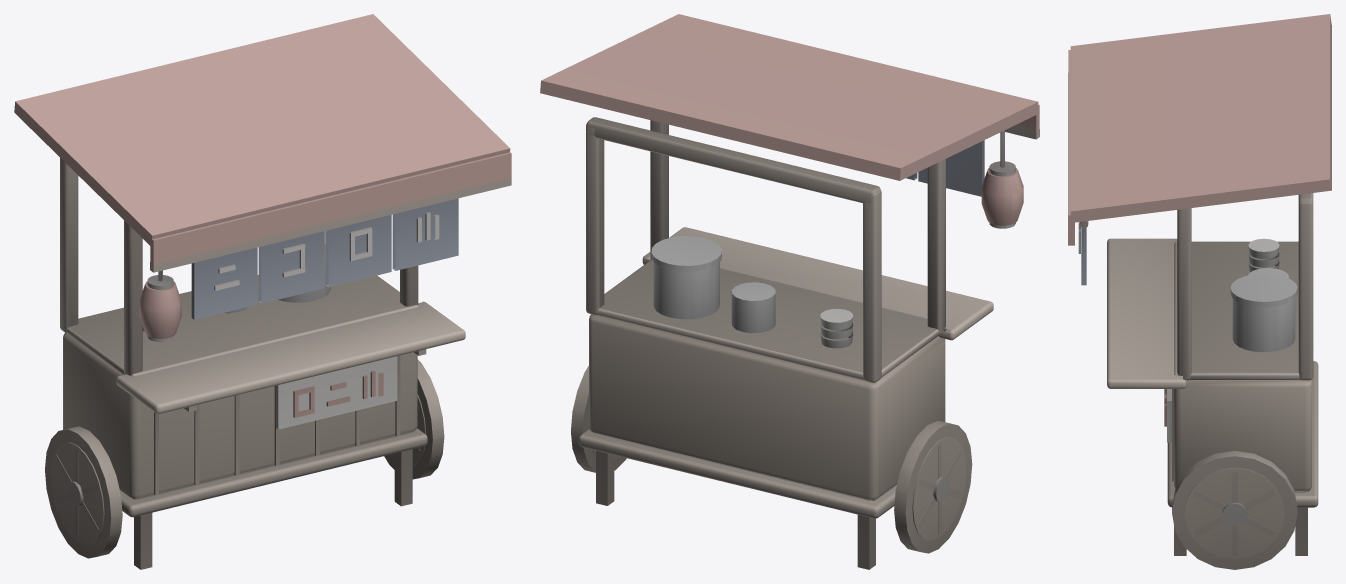
Rendered from ramen.glb.
3 views of the same model, side by side, from view 1: azimuth 30°, elevation 25°; view 2: azimuth 150°, elevation 25°; view 3: azimuth 270°, elevation 25° (orthographic). The views are drawn at different scales.
Parts seen in each view (by area): view 1: ramen.001; view 2: ramen.001; view 3: ramen.001.
Boxes of the visible parts, x1,y1,x2,y2 form: ramen.001: (14, 14, 511, 569); ramen.001: (540, 14, 1039, 569); ramen.001: (1068, 14, 1331, 569).
Size of the model in its own units: 1.87 by 2.09 by 1.26.
